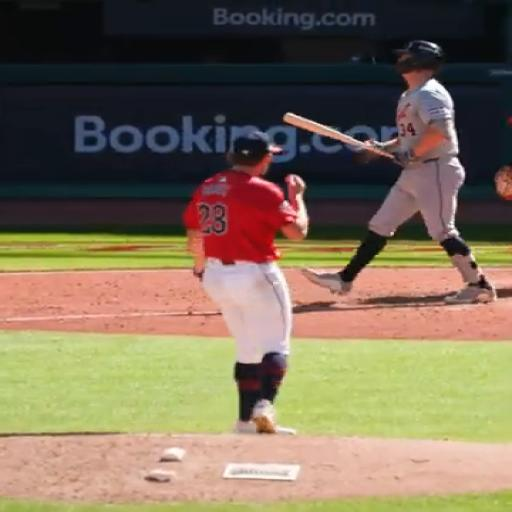bat: (284, 113, 393, 159)
